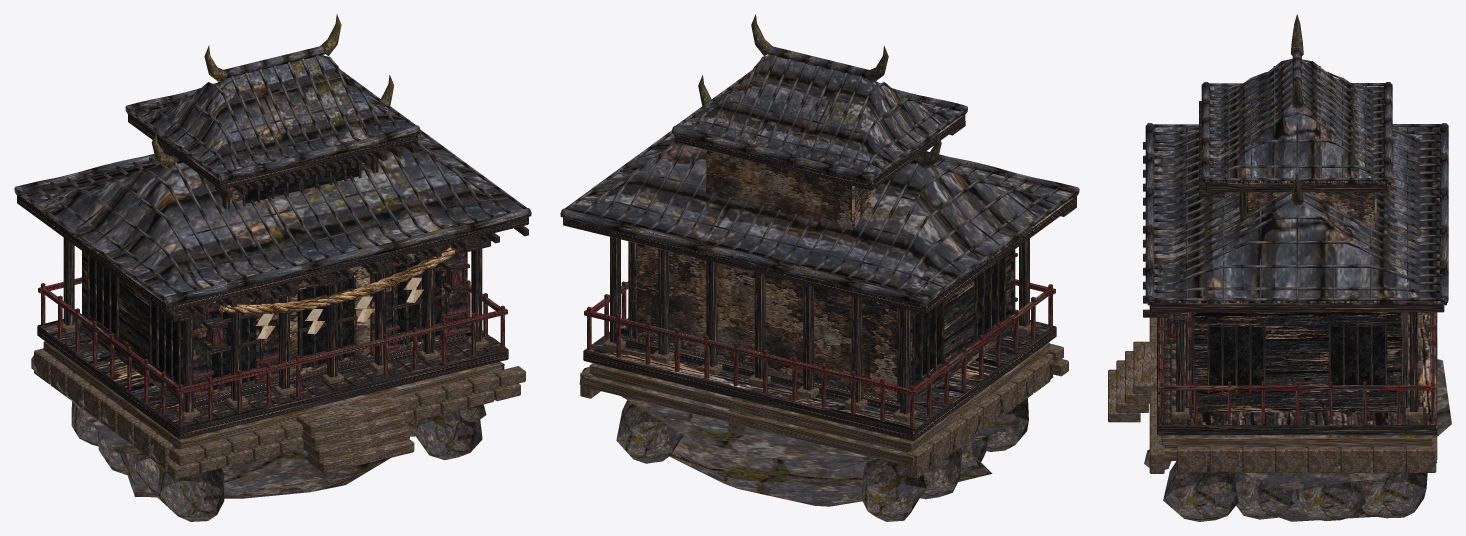
The model's file is nyanisyarud-oni-manor.glb.
The picture shows the model from 3 angles, left to right: view 1: azimuth 30°, elevation 25°; view 2: azimuth 150°, elevation 25°; view 3: azimuth 270°, elevation 25°; orthographic projection. The views are drawn at different scales.
Parts seen in each view (by area): view 1: 01 Oni Manor; view 2: 01 Oni Manor; view 3: 01 Oni Manor.
Part boxes in pixels (x1,y1,x2,y2): 01 Oni Manor: (14,14,531,521); 01 Oni Manor: (560,14,1079,521); 01 Oni Manor: (1108,14,1451,521).
Size of the model in its own units: 9.09 by 10.24 by 7.36.
10 materials, 10 textured.
